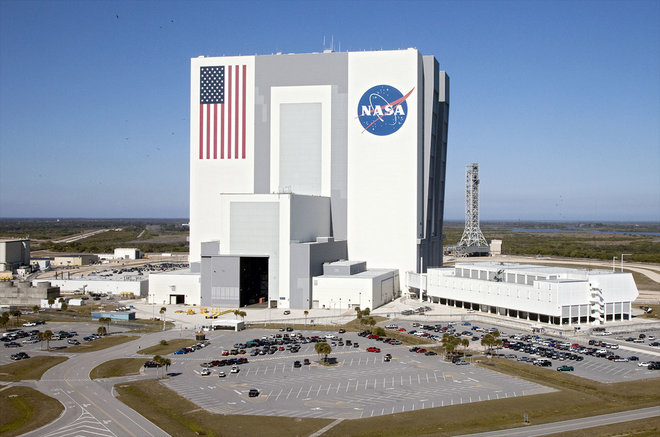NASA: (353, 83, 417, 139)
